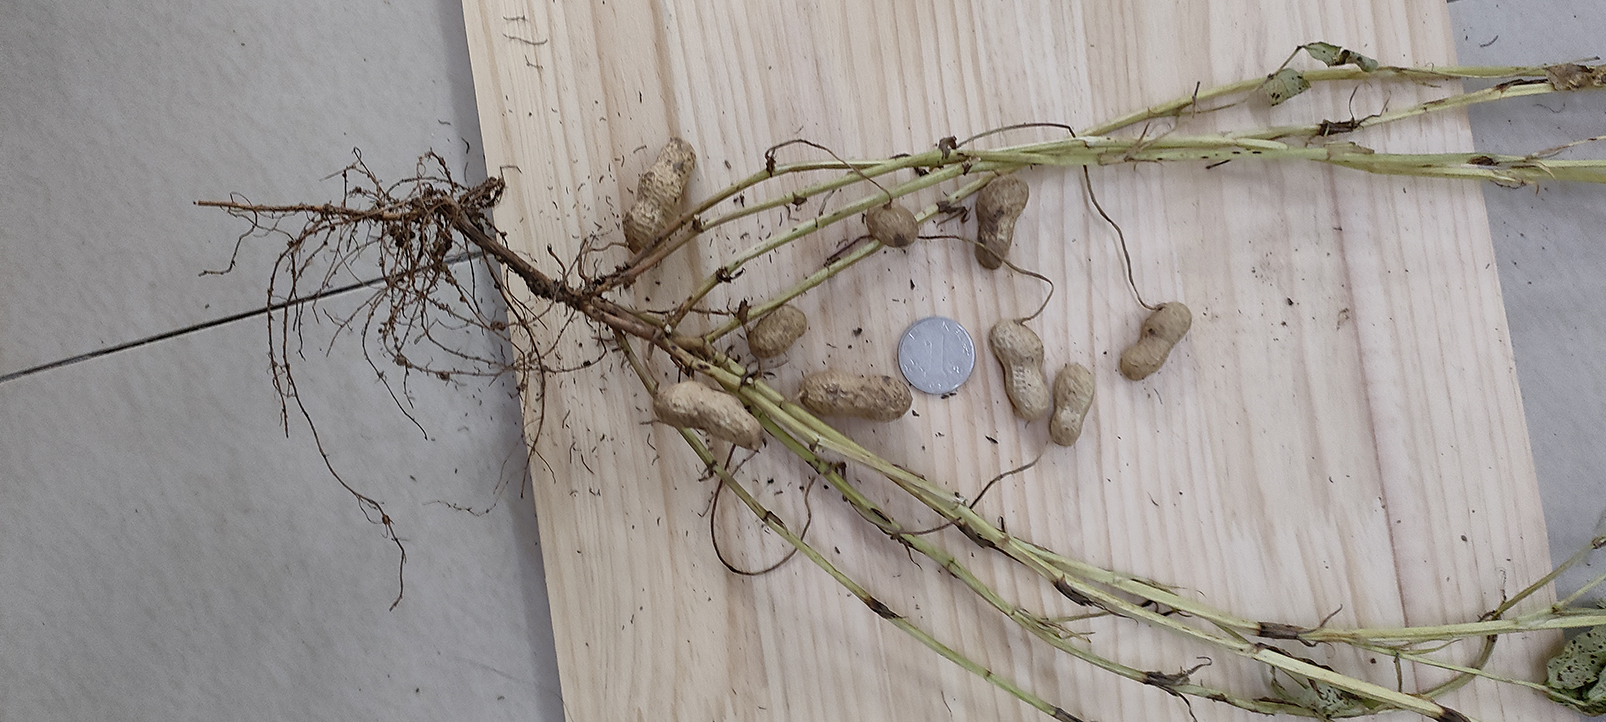h: (623, 136, 696, 252), (653, 380, 764, 450), (987, 321, 1053, 420), (798, 368, 913, 419), (1119, 302, 1192, 381), (1049, 363, 1095, 445), (748, 304, 808, 357), (867, 202, 920, 246)
l: (973, 176, 1028, 272)
